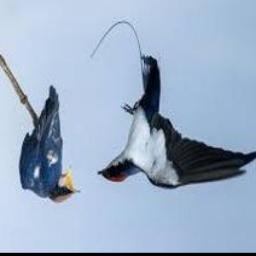Swallow: (97, 56, 256, 190), (19, 87, 80, 204)
